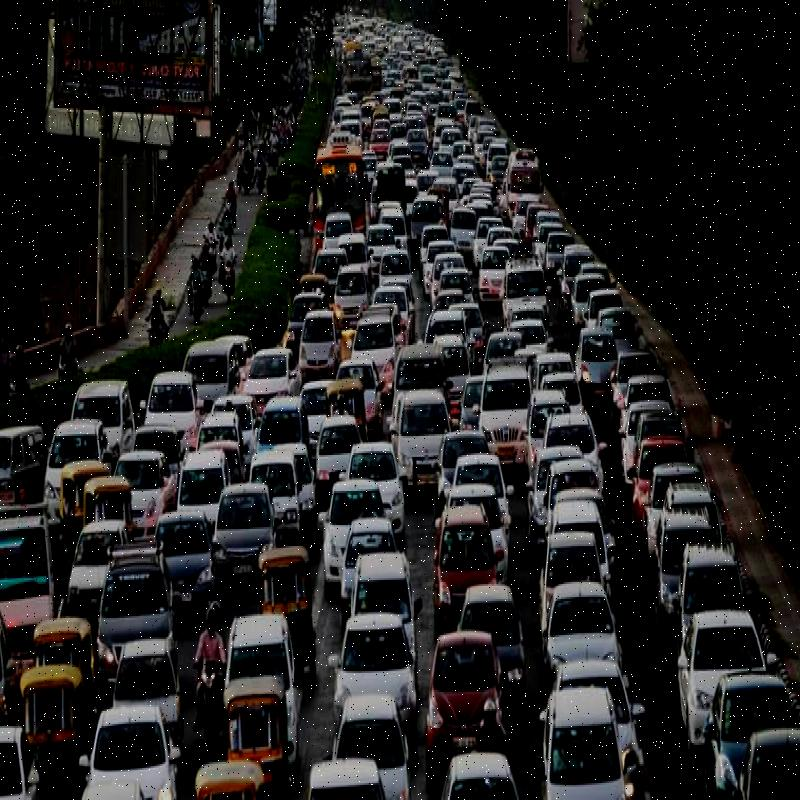auto: (20, 651, 83, 793), (219, 675, 286, 782), (264, 557, 312, 650)
car: (669, 590, 766, 702), (430, 612, 501, 754), (546, 684, 631, 800), (545, 569, 625, 675), (702, 681, 782, 783), (332, 605, 416, 702), (334, 687, 408, 796), (428, 498, 502, 604), (390, 382, 458, 495), (208, 479, 281, 580), (308, 472, 388, 552), (644, 515, 718, 601), (154, 512, 219, 609), (352, 536, 422, 620), (479, 356, 529, 462), (114, 445, 168, 534), (538, 519, 606, 584), (542, 407, 602, 470)
